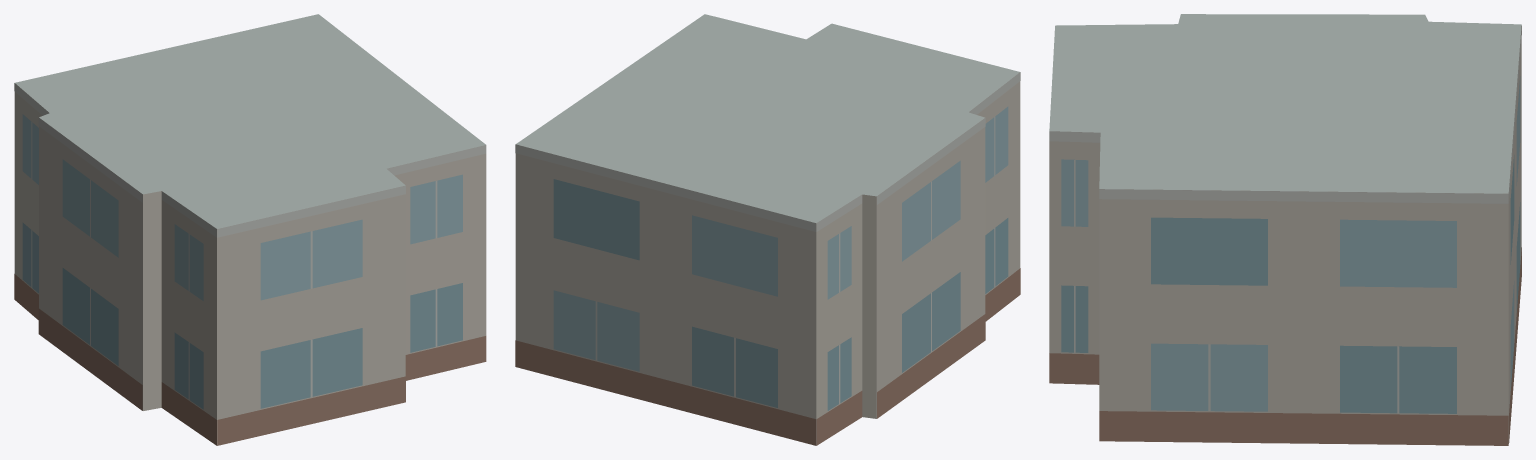
Rendered from survey-upis-32830113.glb.
3 views of the same model, side by side, from view 1: azimuth 30°, elevation 25°; view 2: azimuth 150°, elevation 25°; view 3: azimuth 270°, elevation 25° (orthographic). The views are drawn at different scales.
Parts seen in each view (by area): view 1: survey-upis-32830113.tmp; view 2: survey-upis-32830113.tmp; view 3: survey-upis-32830113.tmp.
Part boxes in pixels (x1,y1,x2,y2): survey-upis-32830113.tmp: (14,14,486,445); survey-upis-32830113.tmp: (515,14,1020,445); survey-upis-32830113.tmp: (1049,14,1521,445).
Bounding box in the file's own units: 9.33 × 6.1 × 10.37.
